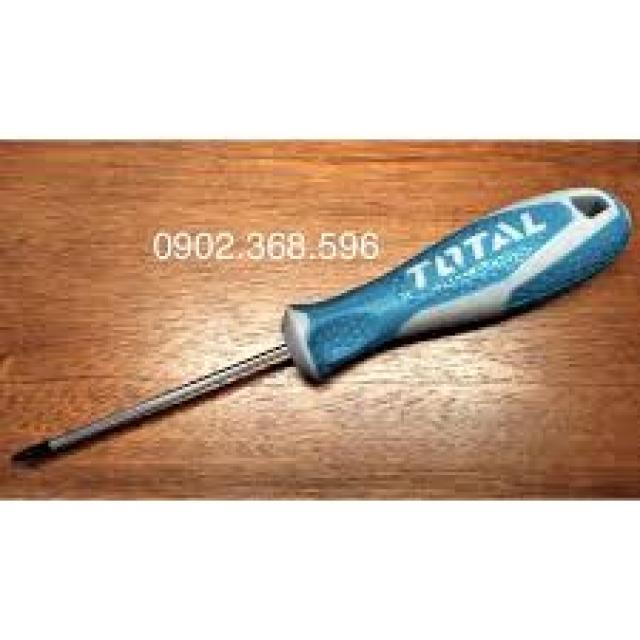screwdriver: (5, 182, 640, 472)
